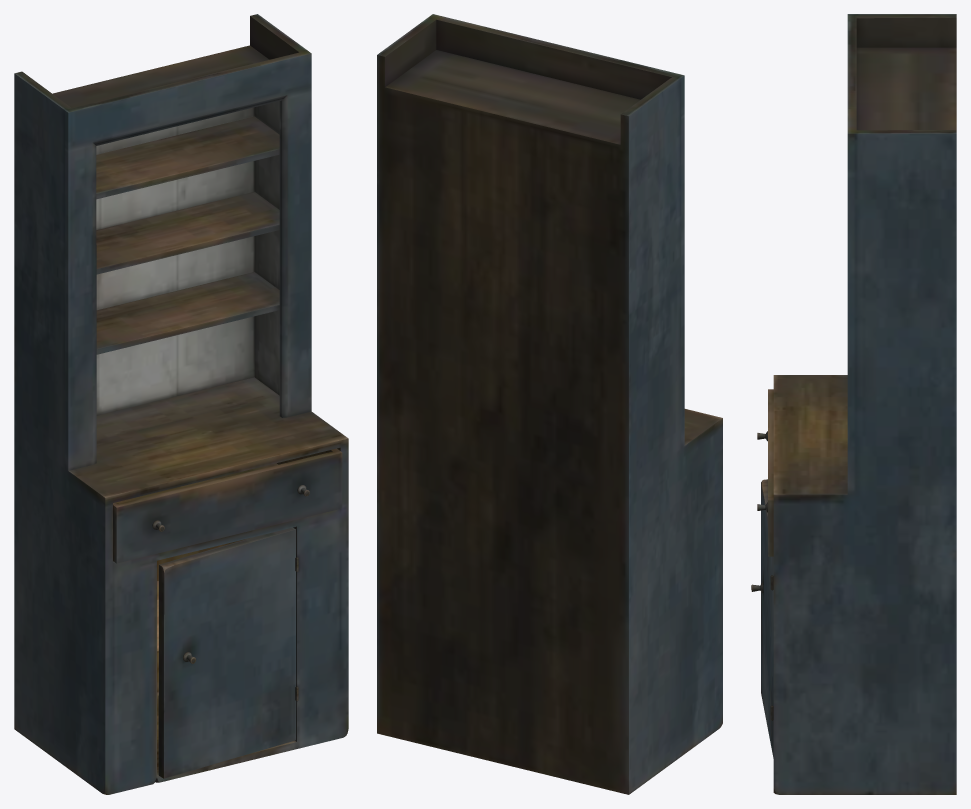
Rendered from cabinet.glb.
3 views of the same model, side by side, from view 1: azimuth 30°, elevation 25°; view 2: azimuth 150°, elevation 25°; view 3: azimuth 270°, elevation 25° (orthographic). The views are drawn at different scales.
Parts seen in each view (by area): view 1: painted_wooden_cabinet_02; view 2: painted_wooden_cabinet_02; view 3: painted_wooden_cabinet_02.
Boxes of the visible parts, bbox=[...] form: painted_wooden_cabinet_02: bbox=[14, 14, 348, 794]; painted_wooden_cabinet_02: bbox=[377, 14, 722, 794]; painted_wooden_cabinet_02: bbox=[751, 14, 956, 794].
Size of the model in its own units: 0.9969 by 2.57 by 0.7225.
Materials: 1 (1 with a texture image).
